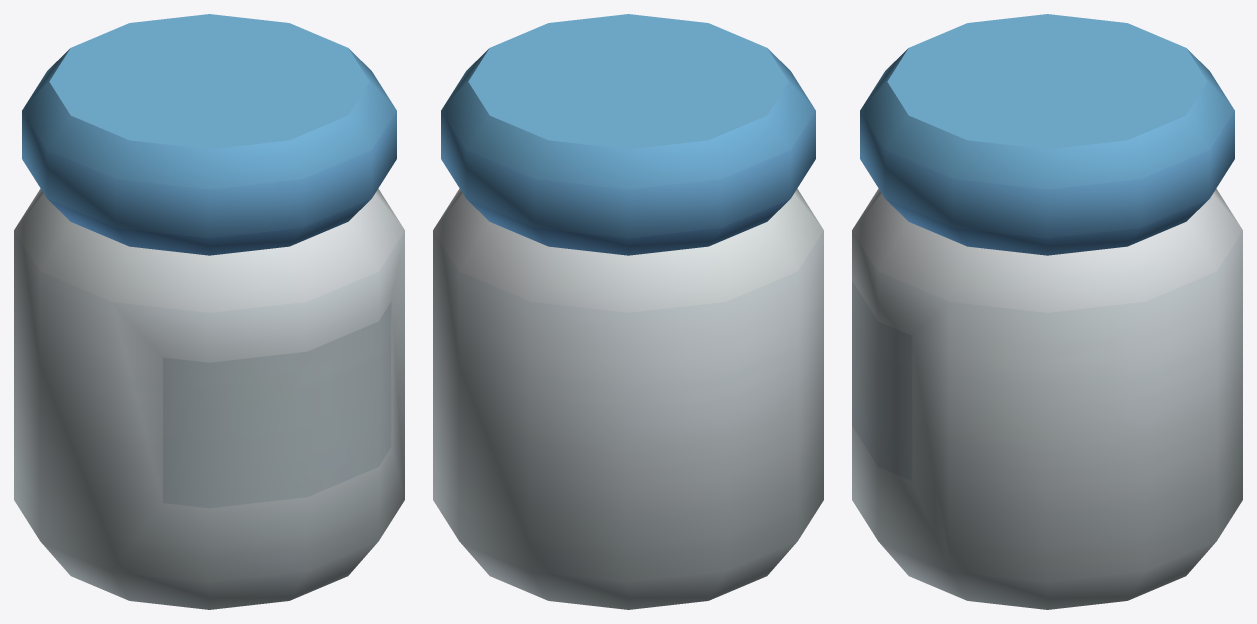
File: burk.glb
3 renders of one model, left to right at view 1: azimuth 30°, elevation 25°; view 2: azimuth 150°, elevation 25°; view 3: azimuth 270°, elevation 25°, orthographic.
Parts seen in each view (by area): view 1: jar_A_medium; view 2: jar_A_medium; view 3: jar_A_medium.
Part boxes in pixels (left/top/right/bottom): jar_A_medium: left=14, top=14, right=404, bottom=609; jar_A_medium: left=433, top=14, right=823, bottom=609; jar_A_medium: left=852, top=14, right=1242, bottom=609.
Bounding box in the file's own units: 0.5 × 0.65 × 0.5.
Materials: 1 (1 with a texture image).
